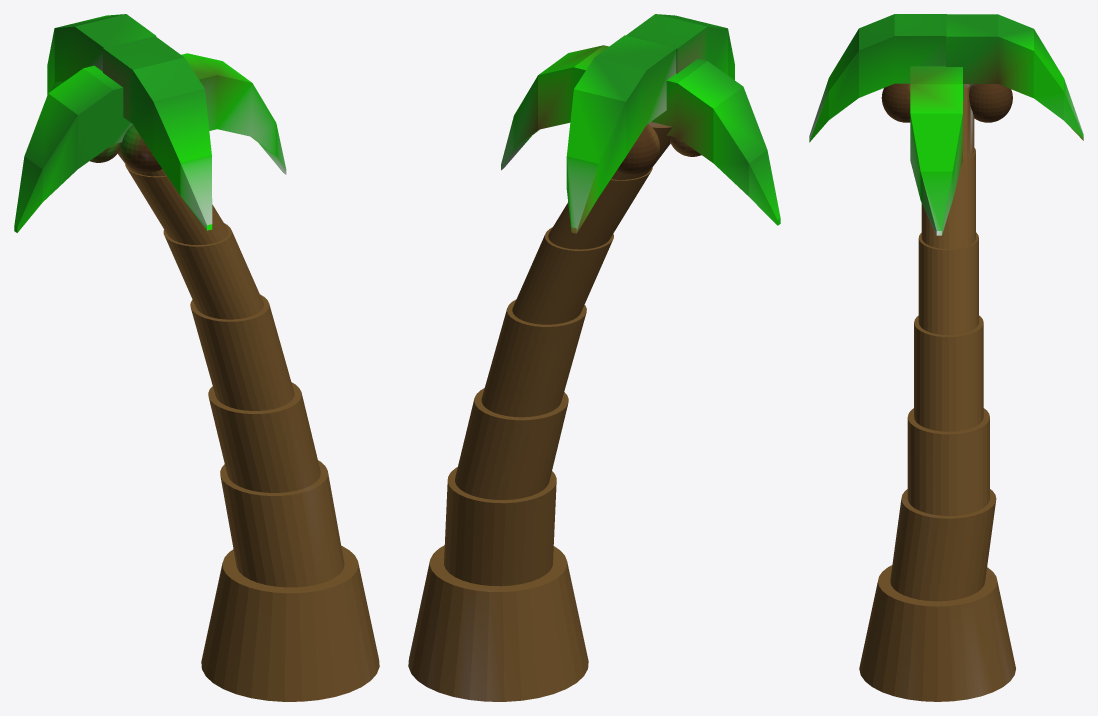
Rendered from coqueiro.fbx.
The picture shows the model from 3 angles, left to right: view 1: azimuth 30°, elevation 25°; view 2: azimuth 150°, elevation 25°; view 3: azimuth 270°, elevation 25°; orthographic projection. The views are drawn at different scales.
Parts seen in each view (by area): view 1: Cylinder; view 2: Cylinder; view 3: Cylinder.
Part boxes in pixels (x1,y1,x2,y2): Cylinder: [14, 14, 379, 701]; Cylinder: [408, 14, 780, 701]; Cylinder: [809, 14, 1083, 701].
Size of the model in its own units: 186 by 329 by 142.
